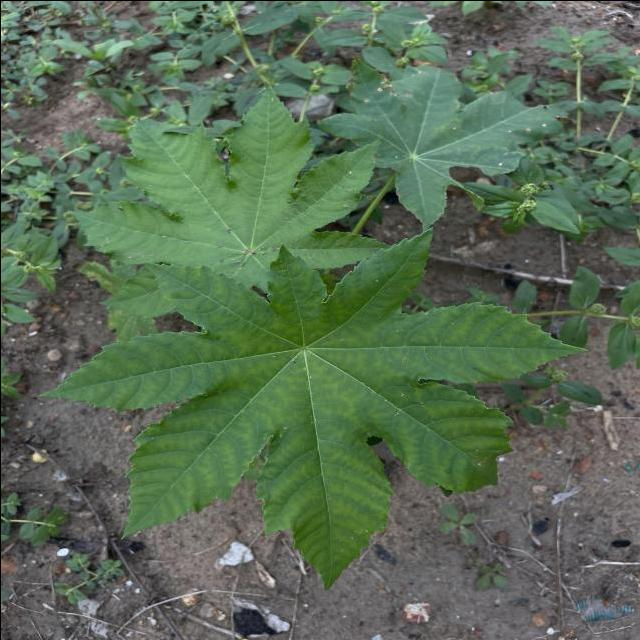Ricinus communis linn: (32, 220, 592, 594)
